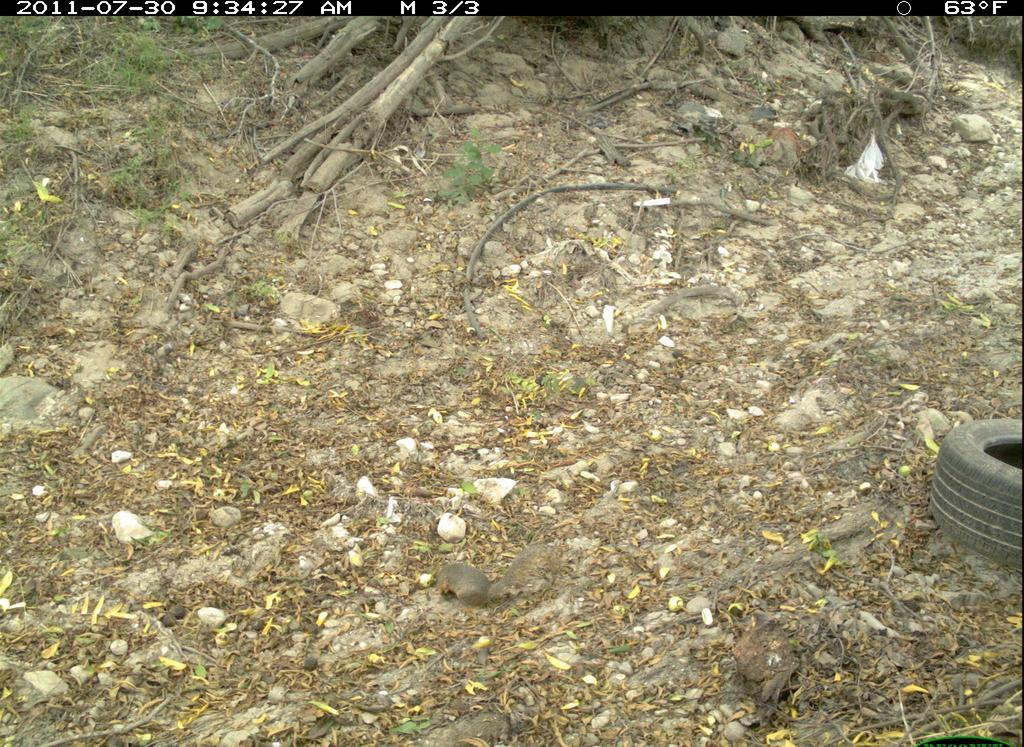squirrel: (435, 538, 566, 610)
